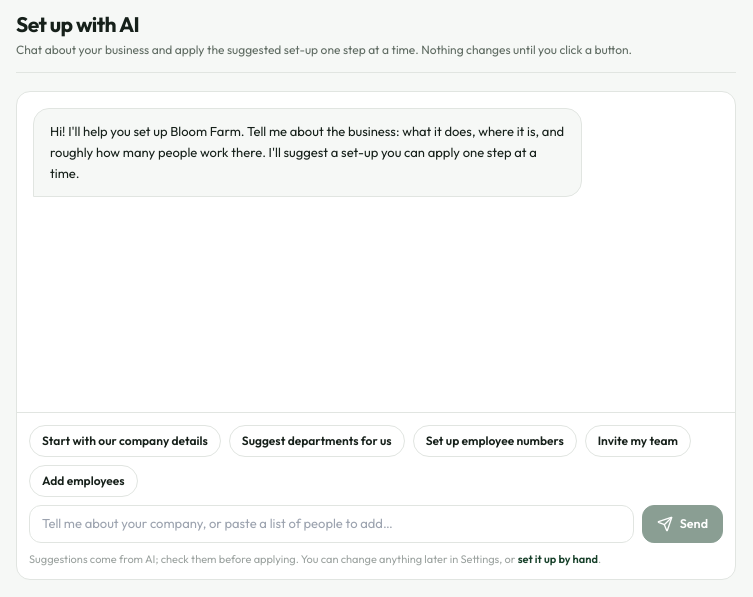
Test: Set up with AI › greets the company and sends the conversation with what is set up
Expected: the text "I'll help you set up Bloom Farm" is shown, top-left (50, 123), bottom-right (567, 181)
Replace the text in the text box named "Message" with "We grow flowers." at point(331, 524), box top-left (29, 505), bottom-right (634, 542)
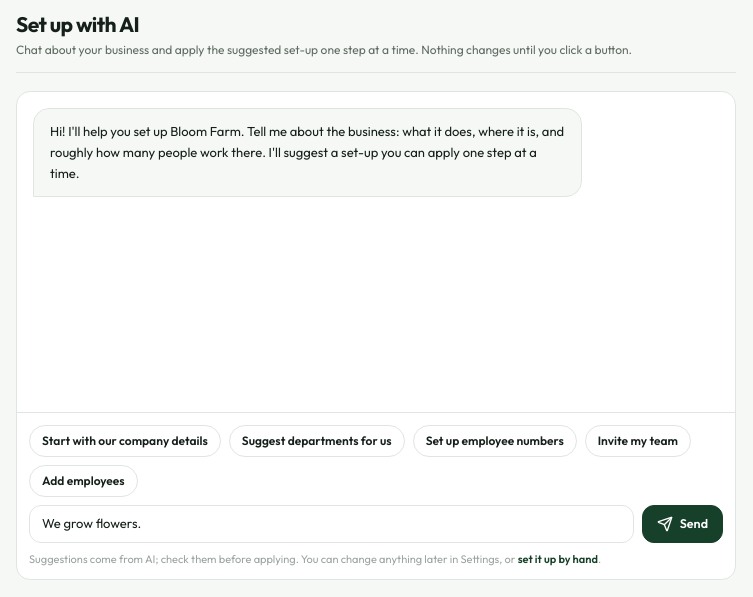
Click the button "Send" at point(682, 524), box top-left (642, 505), bottom-right (723, 542)
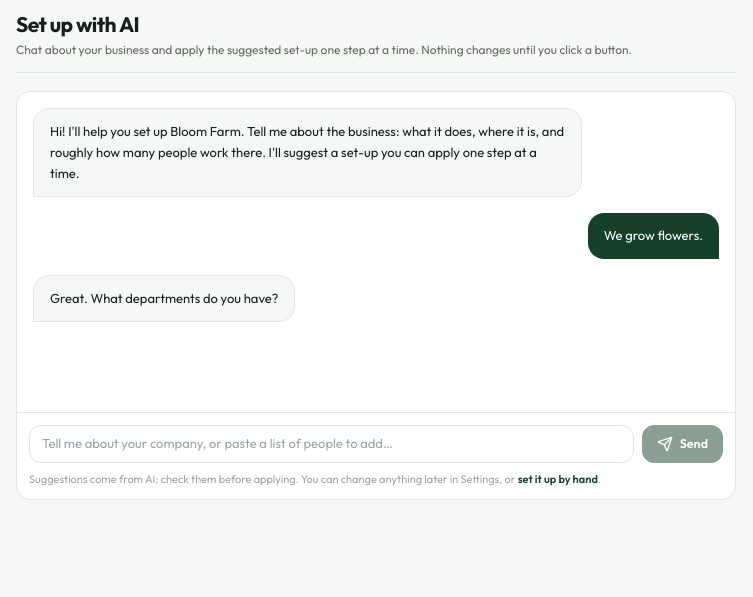
Expected: the text "Great. What departments do you have?" is shown, top-left (33, 274), bottom-right (295, 322)
